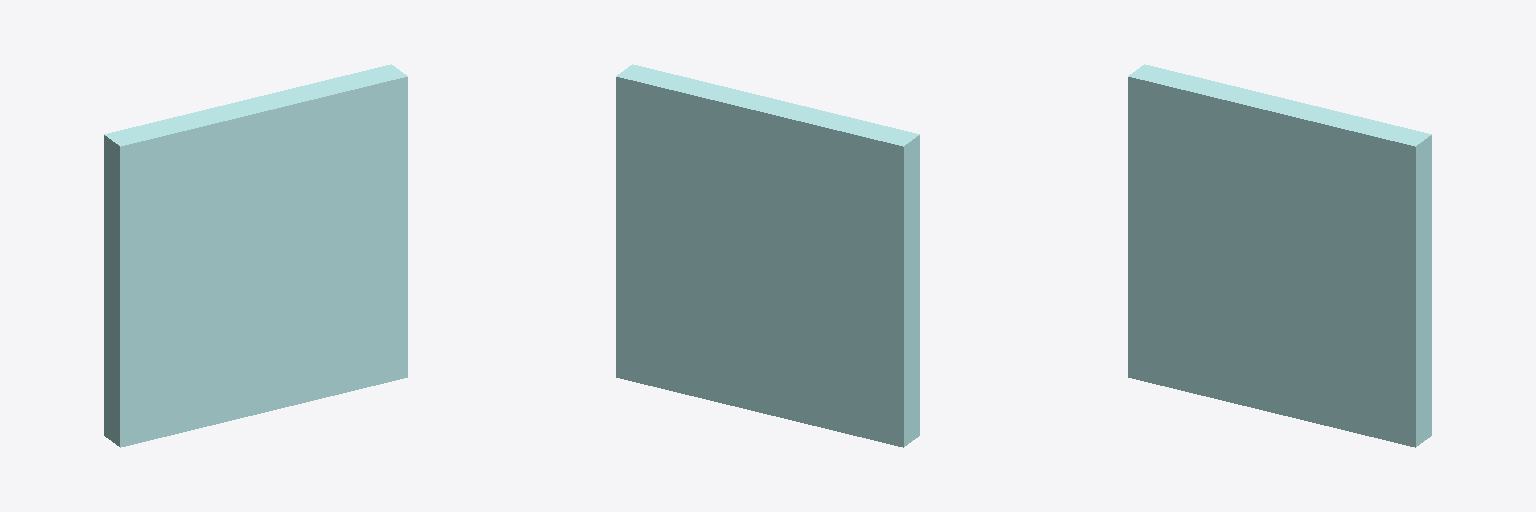
3 views of the same model, side by side, from view 1: azimuth 30°, elevation 25°; view 2: azimuth 150°, elevation 25°; view 3: azimuth 330°, elevation 25° (orthographic).
Visible parts, largest first — view 1: object 1; view 2: object 1; view 3: object 1.
Boxes of the visible parts, <box> form: object 1: <box>104,64,407,447</box>; object 1: <box>616,64,919,447</box>; object 1: <box>1128,64,1431,447</box>.
Bounding box in the file's own units: 1 × 1 × 0.1.
Materials: 1 (1 with a texture image).